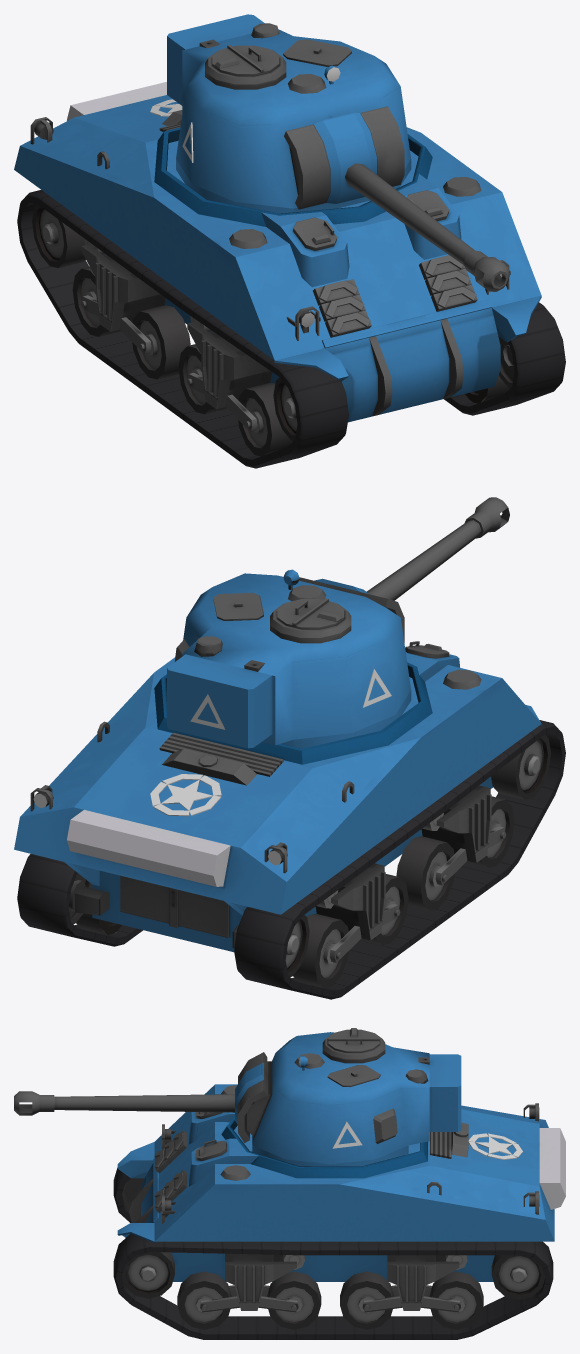
The model's file is Tank.fbx.
3 renders of one model, top to bottom at view 1: azimuth 30°, elevation 25°; view 2: azimuth 150°, elevation 25°; view 3: azimuth 270°, elevation 25°, orthographic. The views are drawn at different scales.
Parts seen in each view (by area): view 1: Firefly_Body, Turret, TrackBelt_R, Wheel_R, TrackBelt_L, Wheel_L; view 2: Firefly_Body, Turret, TrackBelt_R, Wheel_R, TrackBelt_L, Wheel_L; view 3: Firefly_Body, Turret, Wheel_L, TrackBelt_L, TrackBelt_R.
Part boxes in pixels (x1,y1,x2,y2): Firefly_Body: [14, 82, 541, 422]; Turret: [167, 14, 509, 291]; TrackBelt_R: [17, 190, 348, 468]; Wheel_R: [32, 204, 297, 456]; TrackBelt_L: [444, 302, 565, 415]; Wheel_L: [465, 336, 514, 403]; Firefly_Body: [14, 641, 541, 952]; Turret: [167, 497, 509, 748]; TrackBelt_R: [234, 720, 565, 999]; Wheel_R: [285, 735, 550, 987]; TrackBelt_L: [17, 854, 142, 946]; Wheel_L: [68, 873, 121, 935]; Firefly_Body: [117, 1084, 565, 1310]; Turret: [14, 1028, 461, 1166]; Wheel_L: [122, 1252, 545, 1329]; TrackBelt_L: [113, 1233, 553, 1339]; TrackBelt_R: [113, 1167, 131, 1222].
Bounding box in the file's own units: 26.6 × 29.76 × 61.17.
Materials: 2 (2 with a texture image).
